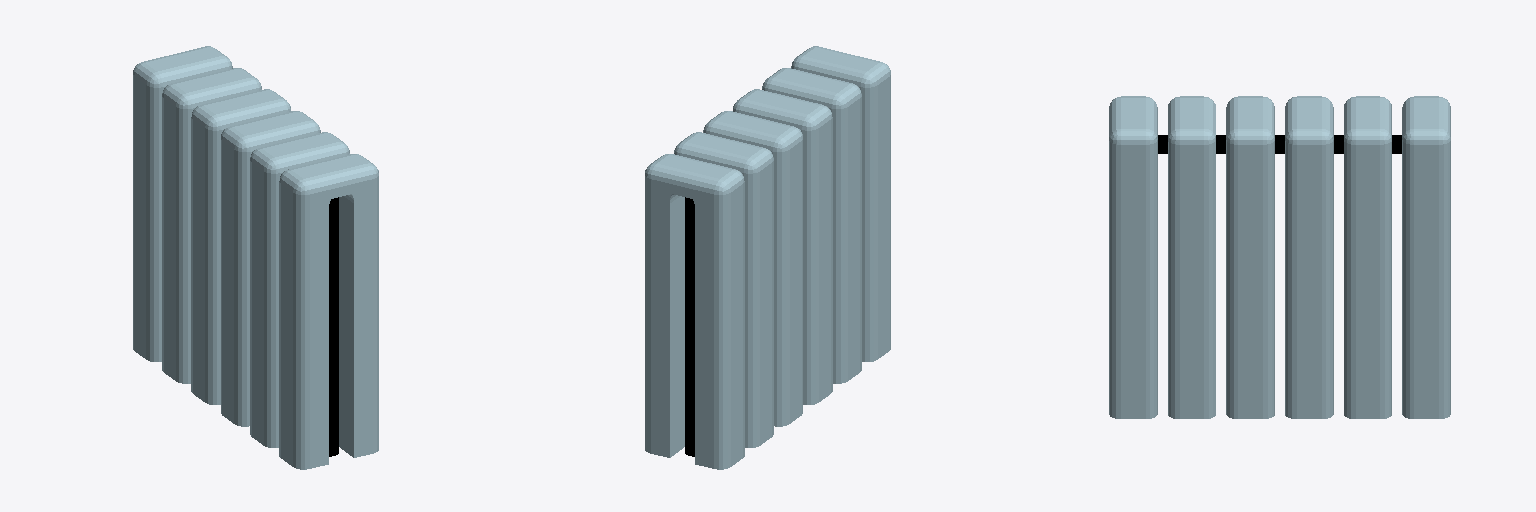
3 views of the same model, side by side, from view 1: azimuth 30°, elevation 25°; view 2: azimuth 150°, elevation 25°; view 3: azimuth 270°, elevation 25° (orthographic).
Visible parts, largest first — view 1: pasted__polySurface96; view 2: pasted__polySurface96; view 3: pasted__polySurface96.
Part boxes in pixels (x1,y1,x2,y2): pasted__polySurface96: (133, 46, 378, 469); pasted__polySurface96: (645, 46, 890, 469); pasted__polySurface96: (1109, 96, 1450, 418).
Size of the model in its own units: 0.3892 by 1.26 by 1.36.
2 materials, 1 textured.